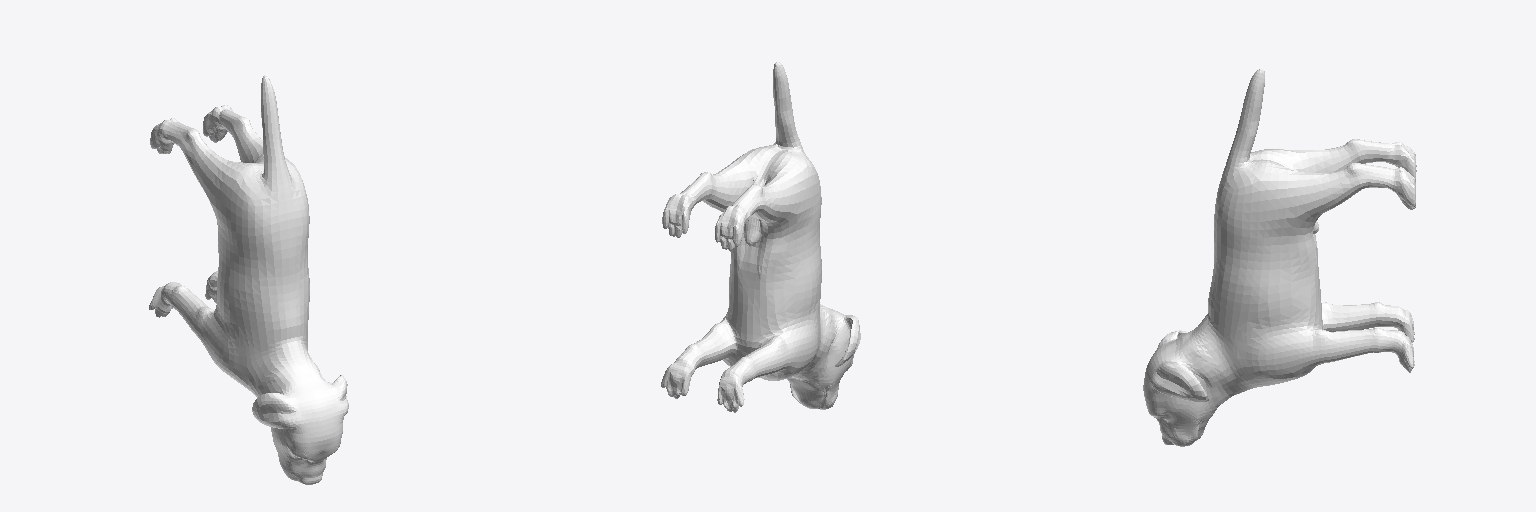
Rendered from Dog_Isima.obj.
3 views of the same model, side by side, from view 1: azimuth 30°, elevation 25°; view 2: azimuth 150°, elevation 25°; view 3: azimuth 270°, elevation 25° (orthographic).
Visible parts, largest first — view 1: Dog_body; view 2: Dog_body; view 3: Dog_body.
Part boxes in pixels (bbox=[...]): Dog_body: bbox=[149, 75, 348, 484]; Dog_body: bbox=[661, 62, 860, 412]; Dog_body: bbox=[1143, 69, 1416, 446].
Bounding box in the file's own units: 13.34 × 53.58 × 35.48.